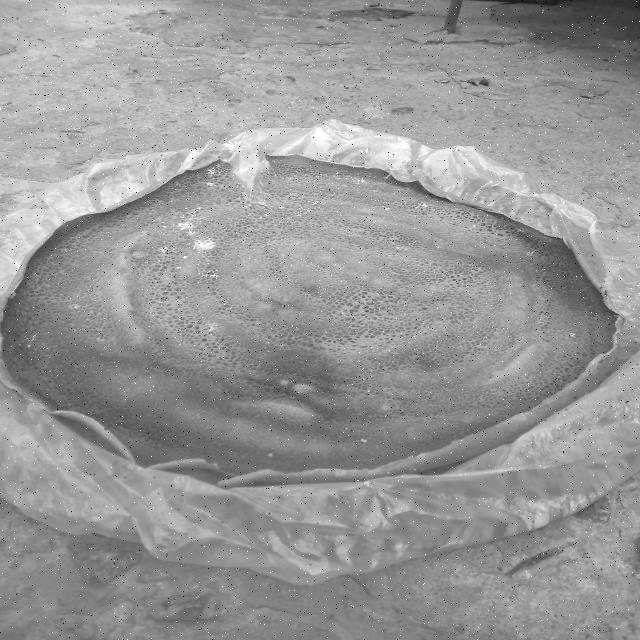injera_mold: (162, 207, 218, 235), (13, 331, 40, 350), (197, 268, 223, 282), (193, 237, 218, 251), (203, 164, 228, 177), (306, 198, 330, 209), (345, 174, 370, 184), (284, 208, 305, 218), (172, 180, 190, 191), (66, 300, 82, 312), (202, 322, 218, 334), (415, 201, 431, 211), (333, 468, 347, 478), (94, 336, 109, 345), (158, 245, 169, 254), (359, 438, 370, 446), (397, 200, 407, 207), (265, 452, 275, 459), (204, 181, 214, 187), (526, 250, 535, 256), (384, 206, 392, 212), (395, 246, 407, 250), (569, 332, 577, 338), (514, 228, 525, 232), (331, 174, 338, 180), (407, 242, 417, 246), (174, 266, 183, 270), (182, 255, 189, 260), (313, 174, 323, 177), (415, 216, 421, 220), (435, 245, 441, 249), (388, 241, 394, 244), (472, 225, 477, 228), (393, 215, 397, 218), (341, 185, 346, 187), (304, 175, 308, 177)
